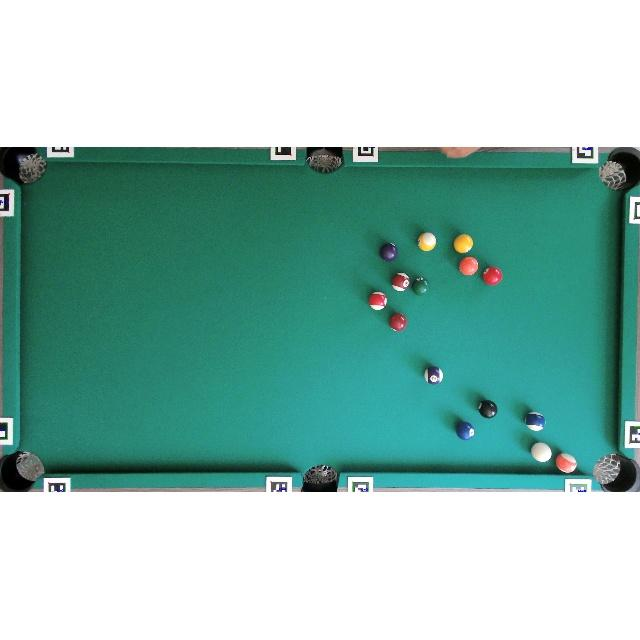cue ball: (530, 442, 552, 462)
other: (554, 452, 578, 474), (452, 233, 475, 255), (524, 411, 546, 432), (417, 231, 437, 252), (379, 242, 399, 262), (391, 272, 411, 292), (368, 291, 388, 311), (456, 421, 476, 441), (459, 256, 479, 276), (482, 266, 502, 286), (478, 399, 498, 419), (411, 277, 431, 296), (389, 313, 408, 333), (425, 366, 443, 384)
